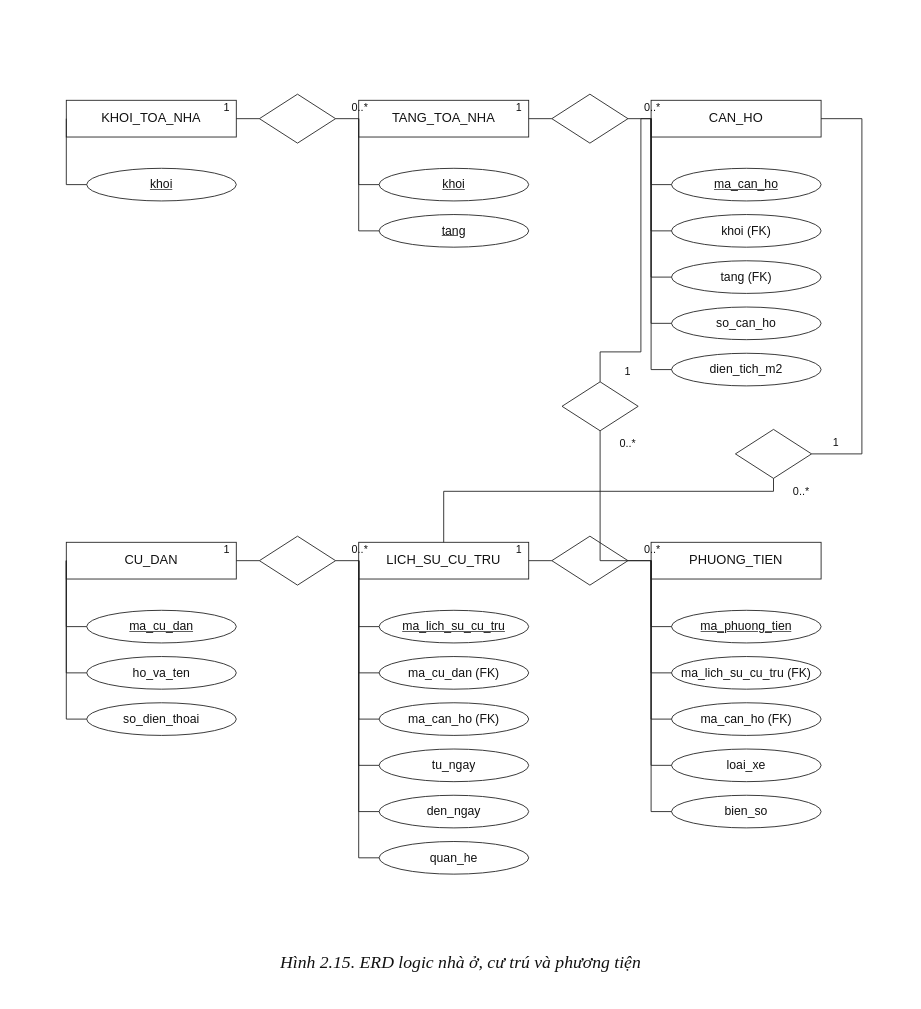
Some shapes in this 921 by 1009 pixel diagram are drawn without their labels. The centre of each missing label's shape, as x and y in pixels:
bố trí: the point at 589,118
chịu phí: the point at 599,406
có: the point at 297,118
có đợt ở: the point at 297,560
gắn đợt: the point at 589,560
tiếp nhận: the point at 773,454
